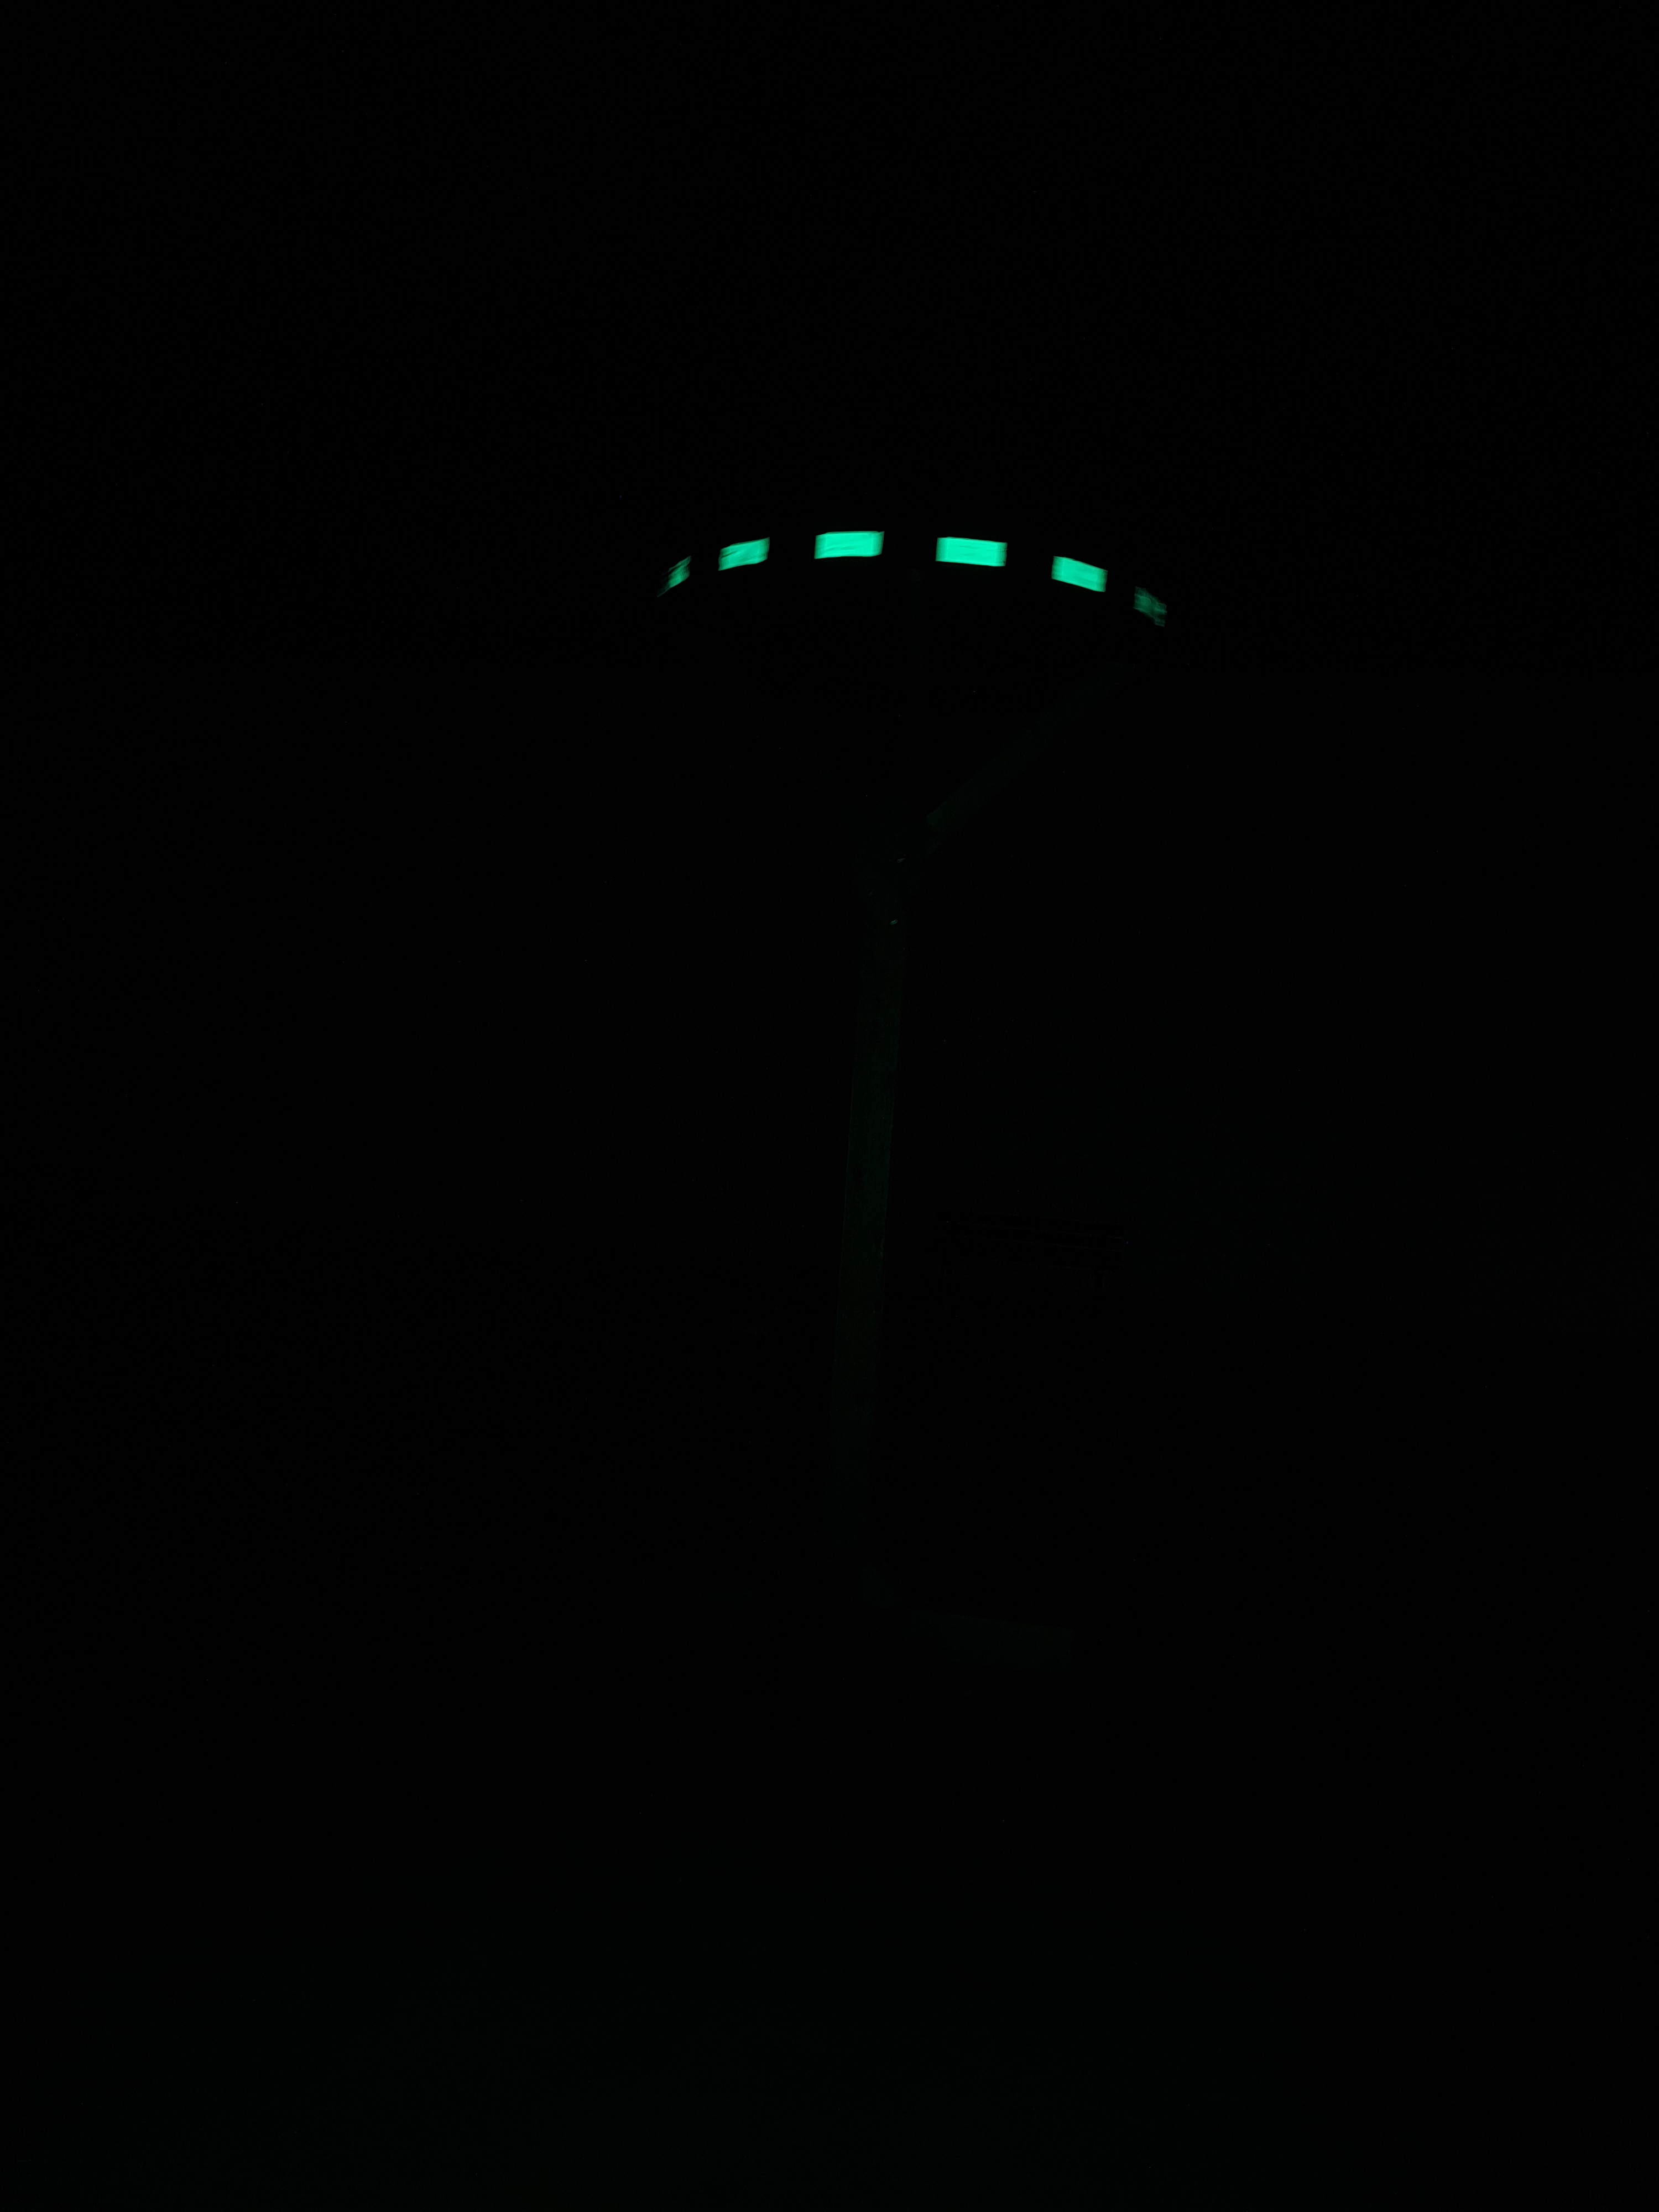hoop: (655, 517, 1171, 637)
